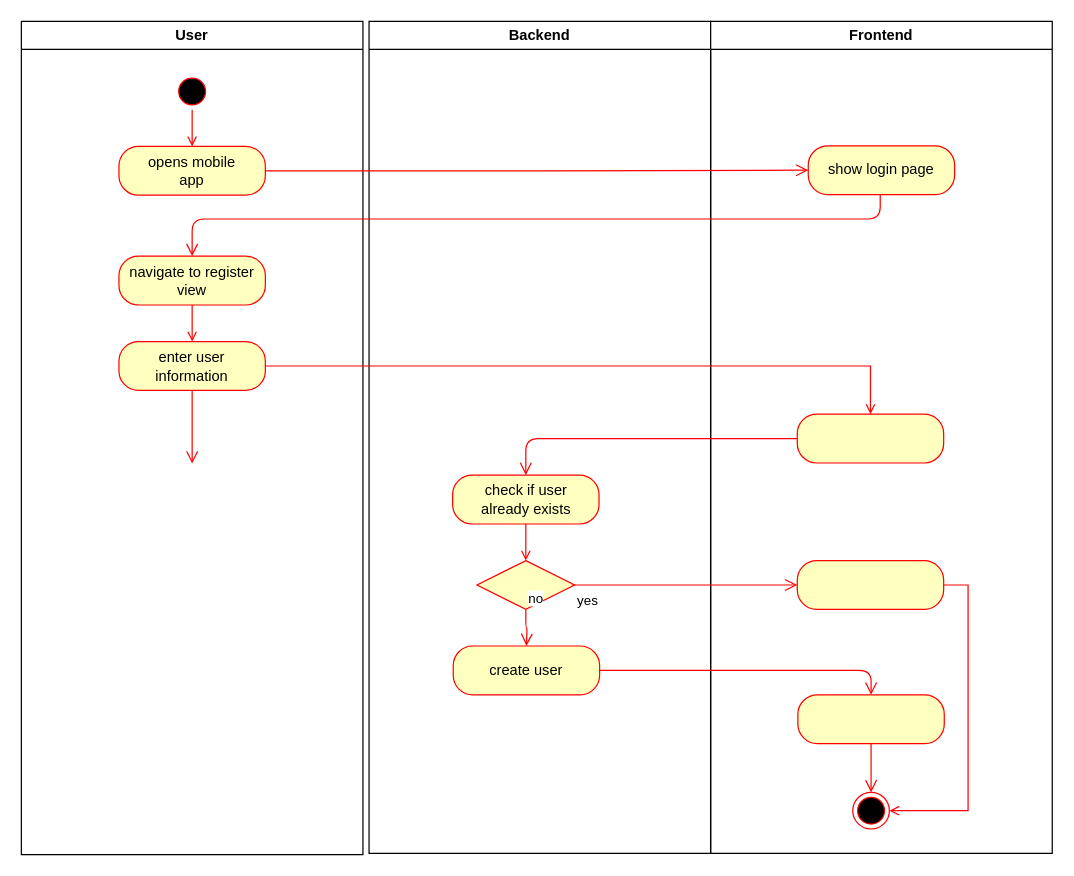
This 1074x876 diagram has some shape labels left out. Here are the shapes that lost their labels. From the top down, the centre of each, then its label:
the point at 870,438: send user info to backend
the point at 525,584: exists?
the point at 870,584: error message
the point at 870,719: redirect to login page
